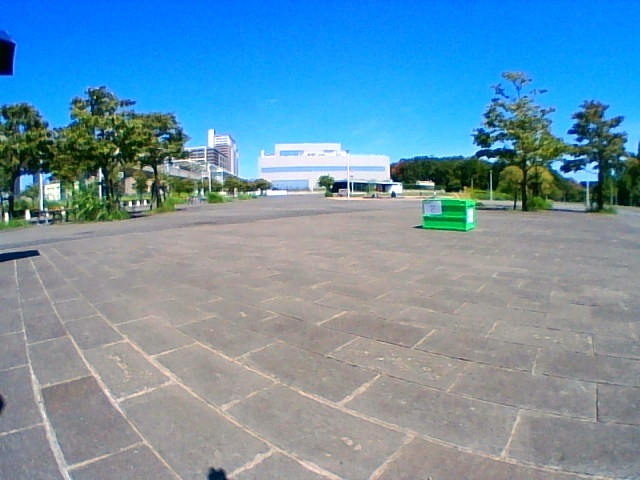green_box: (423, 199, 473, 231)
tag: (423, 201, 441, 215)
